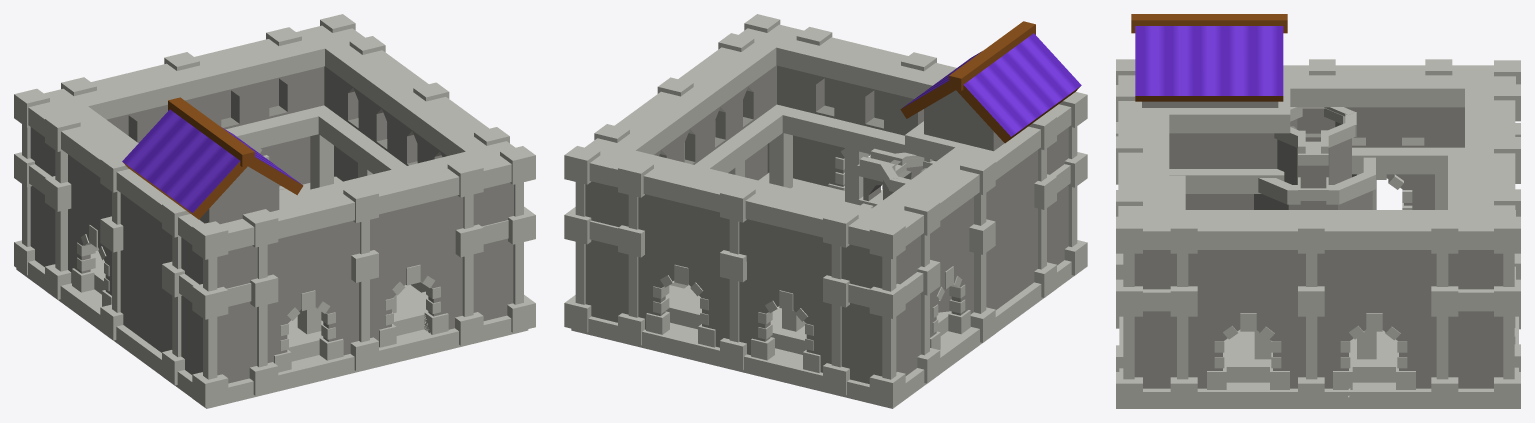
Rendered from bathhouse.fbx.
3 renders of one model, left to right at view 1: azimuth 30°, elevation 25°; view 2: azimuth 150°, elevation 25°; view 3: azimuth 270°, elevation 25°, orthographic. The views are drawn at different scales.
Visible parts, largest first — view 1: polySurface1224; view 2: polySurface1224; view 3: polySurface1224.
Boxes of the visible parts, left/top/right/bottom form: polySurface1224: left=14, top=14, right=535, bottom=408; polySurface1224: left=564, top=14, right=1087, bottom=408; polySurface1224: left=1116, top=14, right=1520, bottom=408.
Bounding box in the file's own units: 315 × 216 × 315.
Materials: 1 (1 with a texture image).
